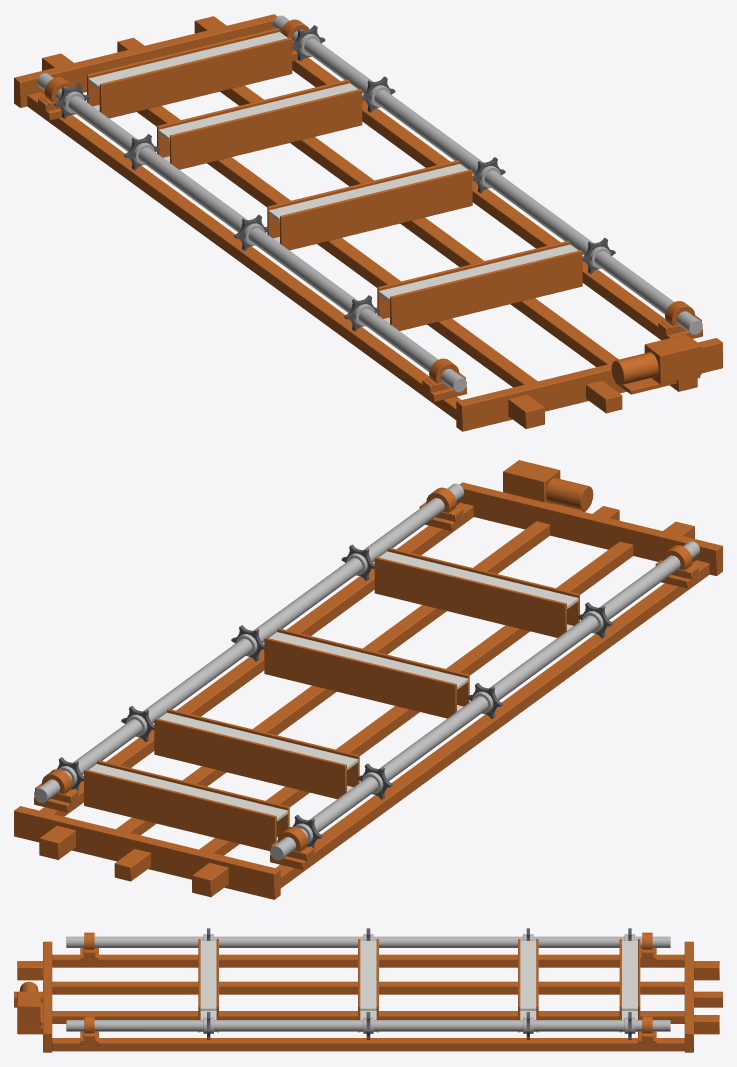
The model's file is sorter_lift.glb.
The picture shows the model from 3 angles, top to bottom: view 1: azimuth 30°, elevation 25°; view 2: azimuth 150°, elevation 25°; view 3: azimuth 270°, elevation 25°; orthographic projection. The views are drawn at different scales.
Visible parts, largest first — view 1: LiftDeck, LiftTailShaft, LiftHeadShaft, LiftWearStrips; view 2: LiftDeck, LiftTailShaft, LiftHeadShaft, LiftWearStrips; view 3: LiftDeck, LiftHeadShaft, LiftTailShaft, LiftWearStrips.
Boxes of the visible parts, <box> form: LiftDeck: <box>14,14,722,431</box>; LiftTailShaft: <box>37,73,466,392</box>; LiftHeadShaft: <box>272,15,702,334</box>; LiftWearStrips: <box>88,32,577,323</box>; LiftDeck: <box>14,460,722,899</box>; LiftTailShaft: <box>270,541,699,860</box>; LiftHeadShaft: <box>34,483,464,803</box>; LiftWearStrips: <box>88,551,578,840</box>; LiftDeck: <box>14,932,722,1052</box>; LiftHeadShaft: <box>66,1012,670,1039</box>; LiftTailShaft: <box>66,928,670,947</box>; LiftWearStrips: <box>200,941,637,1031</box>.
Size of the model in its own units: 1.96 by 0.326 by 6.1.
